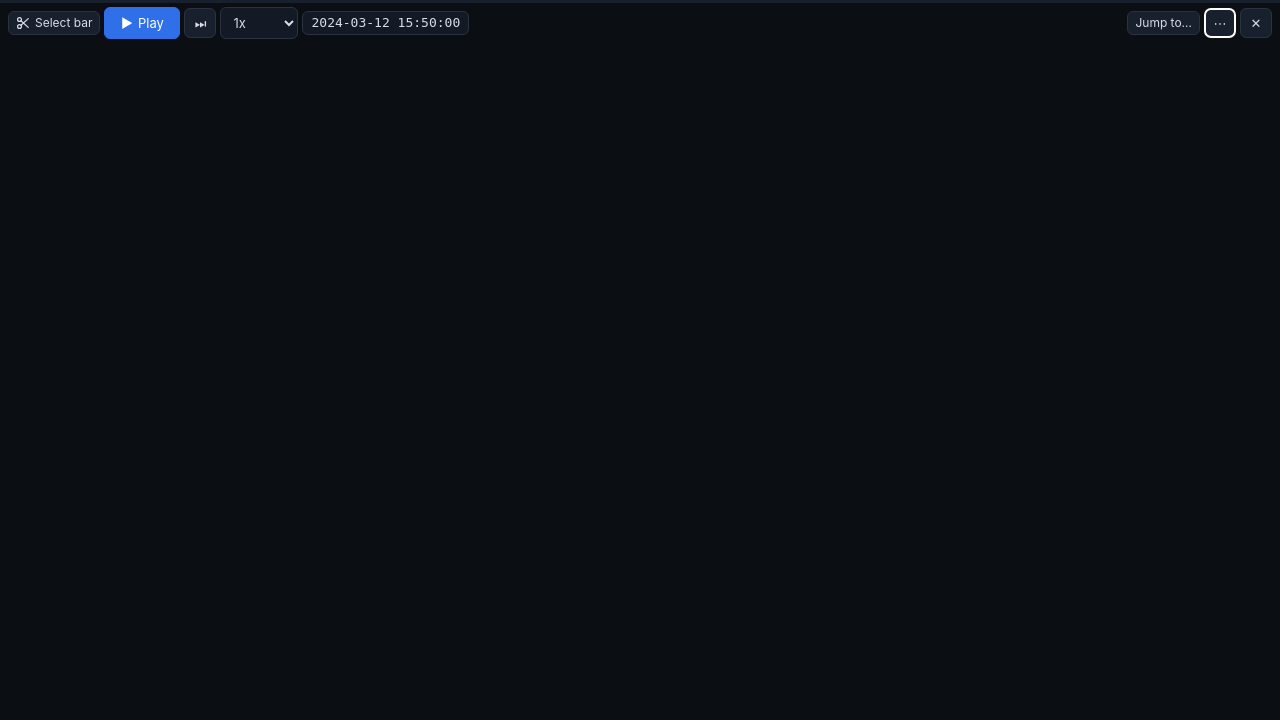
it: the replay controls › step with ← and → while the ⋯ panel is open, focus still on ⋯ or on the page, but not while another menu is
This screenshot has width=1280, height=720.
Later steps or results of the test are not shown.
Click the button "⋯" at (1220, 23), box [1204,8,1236,38]
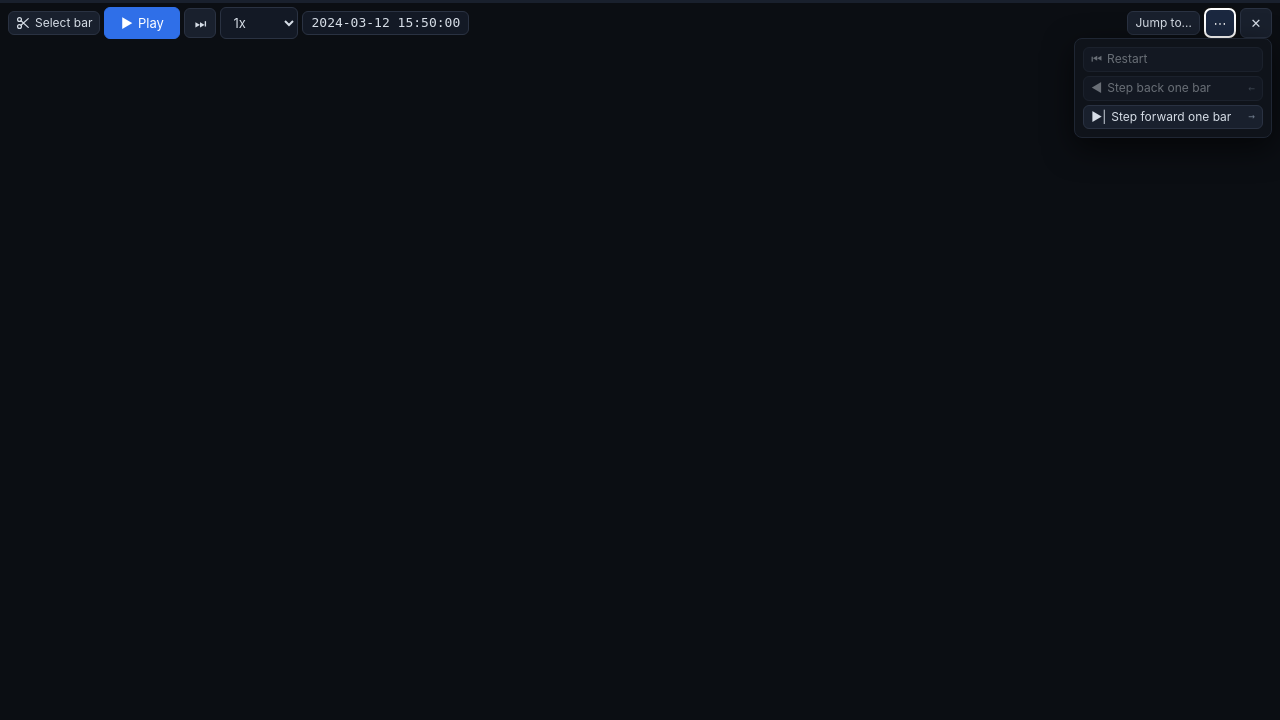
Expected: the dialog with class "more-pop" is shown, [1074,38,1272,138]
Press ArrowRight in the button "⋯", box [1204,8,1236,38]
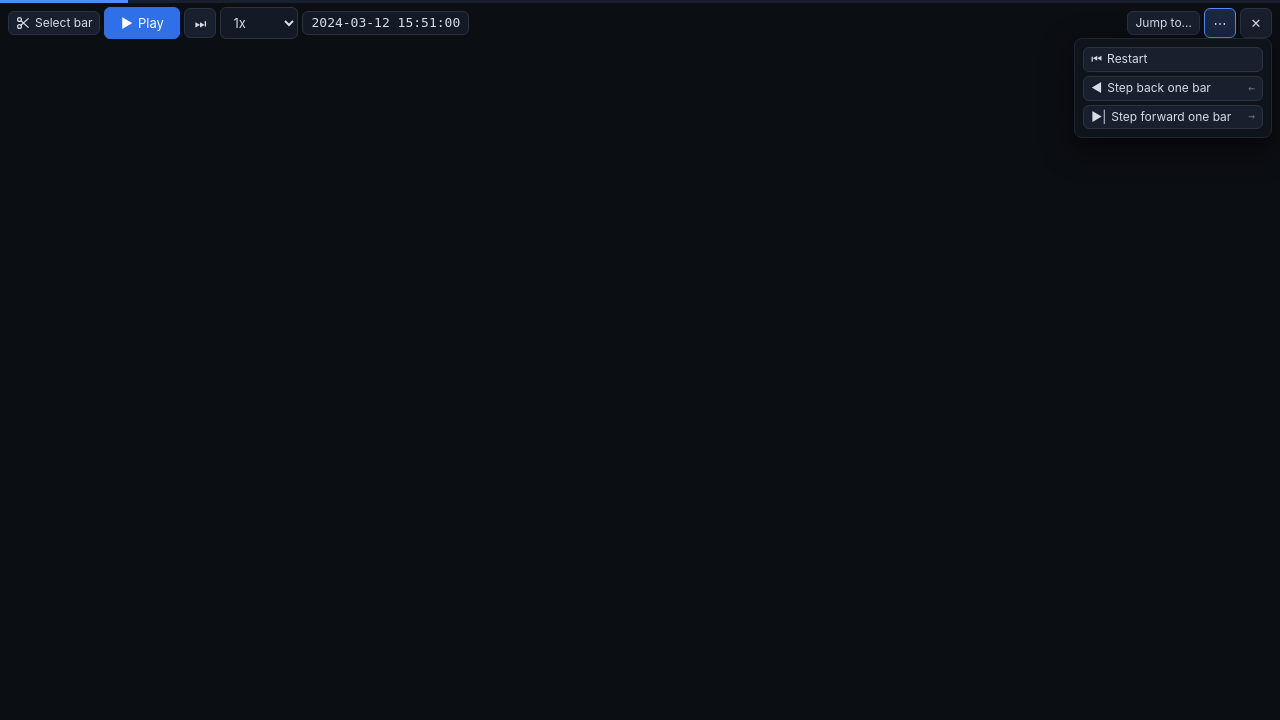
Press ArrowRight
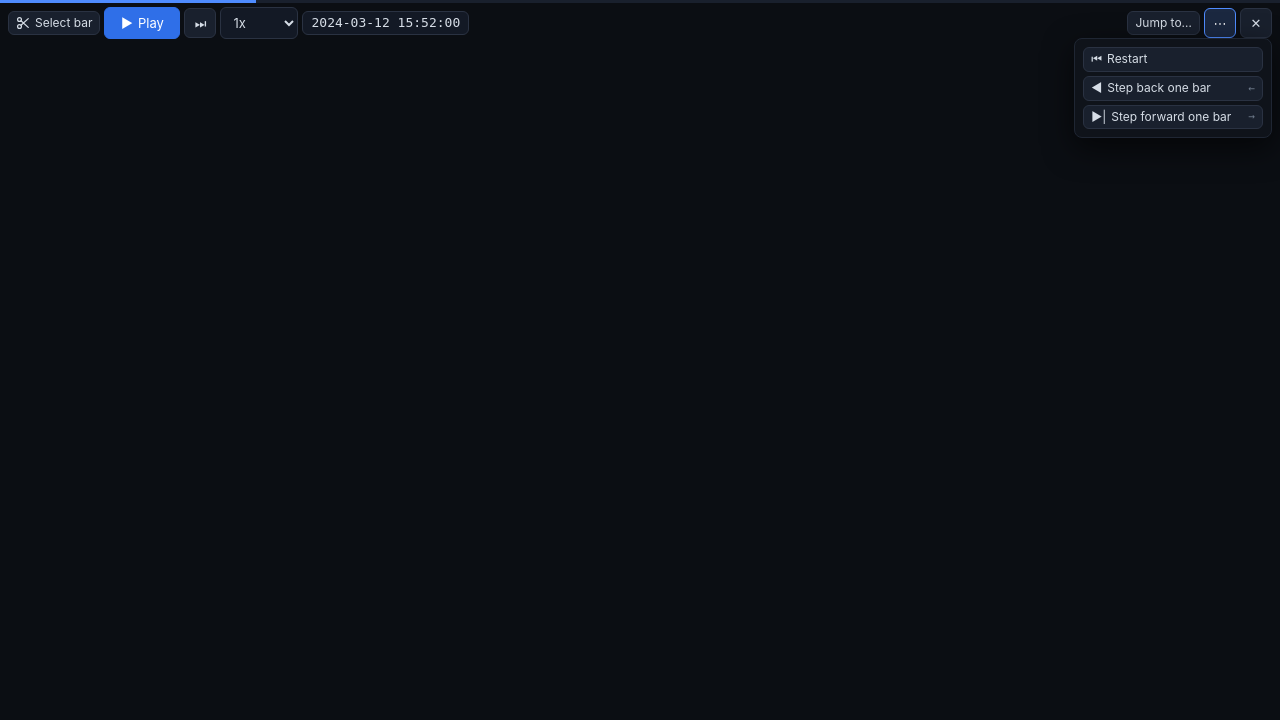
Press ArrowLeft in the button "⋯", box [1204,8,1236,38]
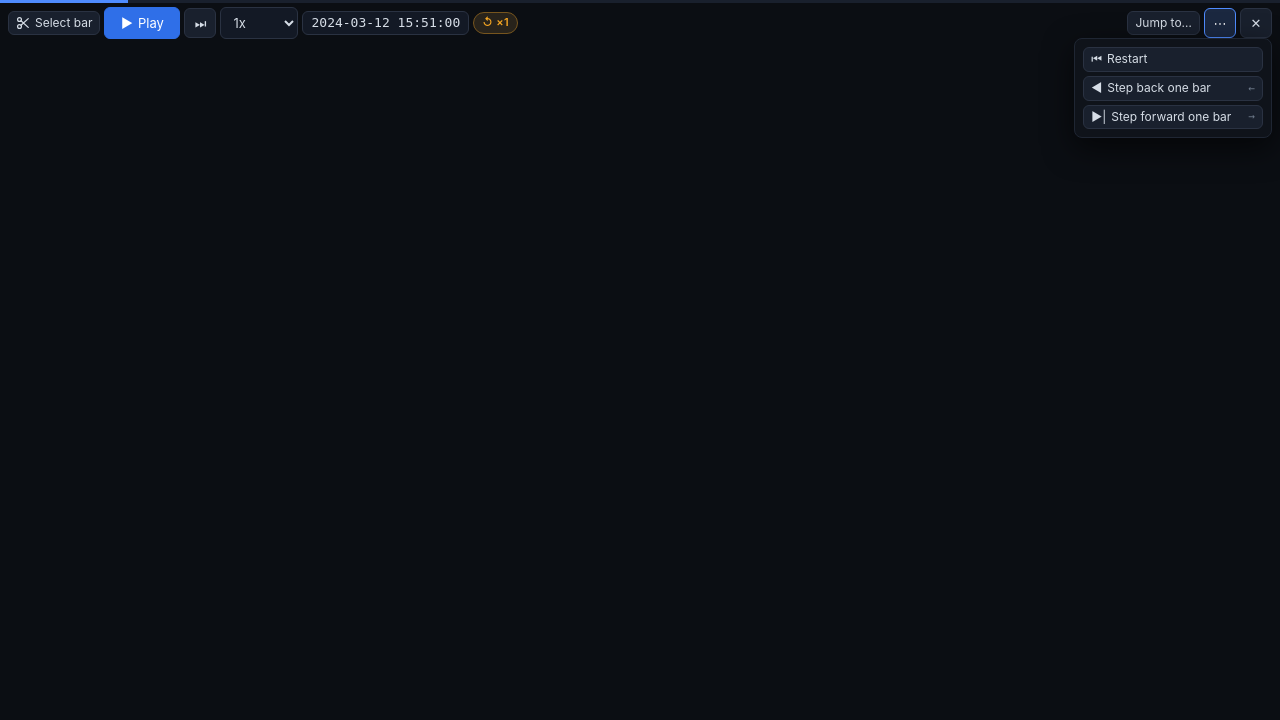
Expected: the dialog with class "more-pop" is shown, [1074,38,1272,138]
Press Space in the button "⋯", box [1204,8,1236,38]
Click the button "Jump to…" at (1164, 23), box [1127,11,1200,36]
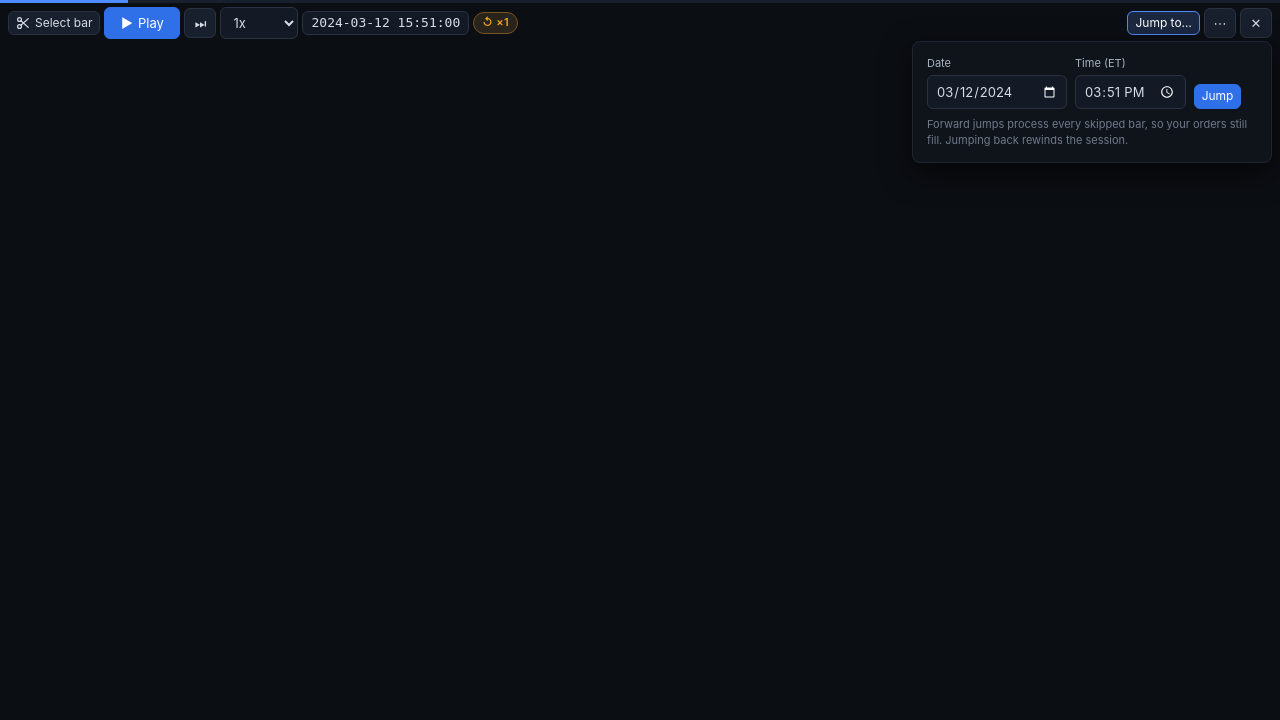
Expected: the dialog with class "more-pop" is gone
Expected: the dialog with class "jump-pop" is shown, [912,41,1272,163]
